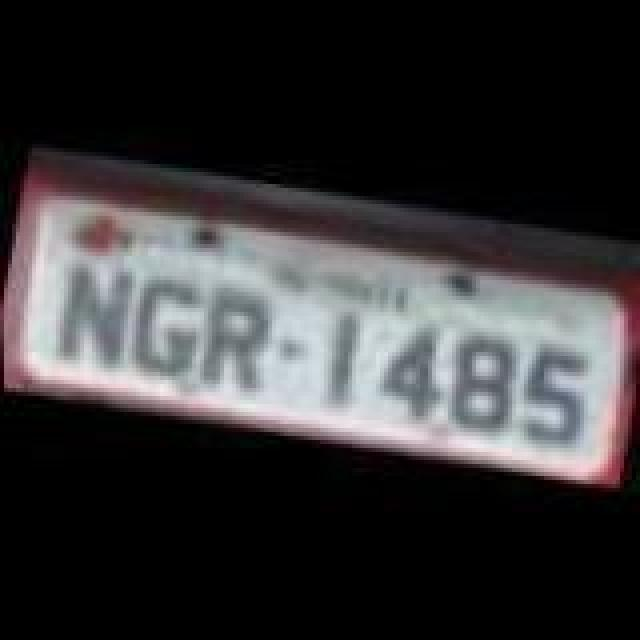1: (310, 296, 366, 400)
4: (362, 306, 458, 430)
5: (508, 336, 600, 452)
8: (434, 320, 530, 440)
G: (116, 258, 220, 390)
N: (48, 250, 144, 378)
R: (184, 284, 280, 400)
